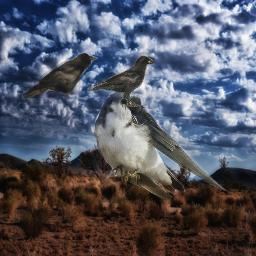Crow: (87, 55, 154, 107), (23, 52, 98, 98)
Swallow: (91, 88, 228, 203)
